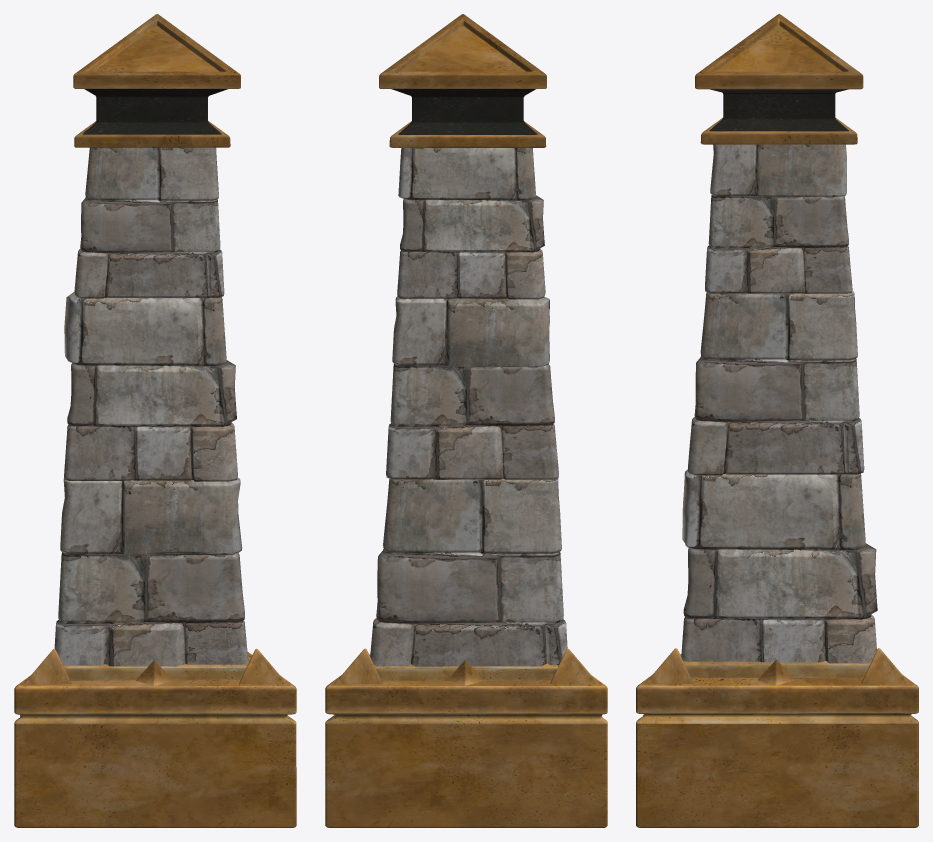
The picture shows the model from 3 angles, left to right: view 1: azimuth 30°, elevation 25°; view 2: azimuth 150°, elevation 25°; view 3: azimuth 270°, elevation 25°; orthographic projection.
Parts seen in each view (by area): view 1: SM_Kuldras_Arena_Pillar_01_LOD0; view 2: SM_Kuldras_Arena_Pillar_01_LOD0; view 3: SM_Kuldras_Arena_Pillar_01_LOD0.
Part boxes in pixels (bbox=[...]): SM_Kuldras_Arena_Pillar_01_LOD0: bbox=[14, 14, 296, 827]; SM_Kuldras_Arena_Pillar_01_LOD0: bbox=[325, 14, 607, 827]; SM_Kuldras_Arena_Pillar_01_LOD0: bbox=[636, 14, 918, 827].
Bounding box in the file's own units: 6.2 × 20.59 × 7.12.
3 materials, 3 textured.
